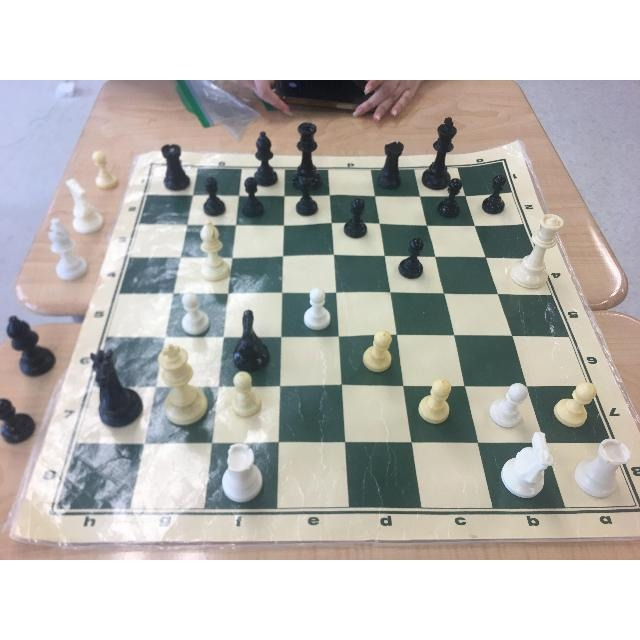black-bishop: (243, 129, 279, 182)
black-king: (428, 116, 458, 188)
black-knight: (88, 344, 142, 432), (228, 308, 278, 368)
black-pawn: (480, 169, 514, 215), (395, 230, 426, 279), (199, 173, 234, 216), (341, 192, 372, 237), (292, 176, 321, 224), (237, 172, 268, 214), (442, 176, 470, 220)
black-queen: (288, 122, 329, 186)
black-rook: (375, 135, 409, 191), (159, 142, 196, 192)
white-bishop: (191, 217, 235, 283)
white-king: (147, 334, 212, 431)
white-knight: (500, 430, 560, 500)
white-pawn: (358, 330, 406, 387), (551, 376, 601, 430), (411, 371, 454, 427), (175, 288, 219, 341), (482, 379, 531, 426), (224, 368, 269, 418), (298, 280, 336, 333)
white-queen: (505, 210, 568, 288)
white-rook: (210, 440, 269, 505), (569, 435, 631, 495)
